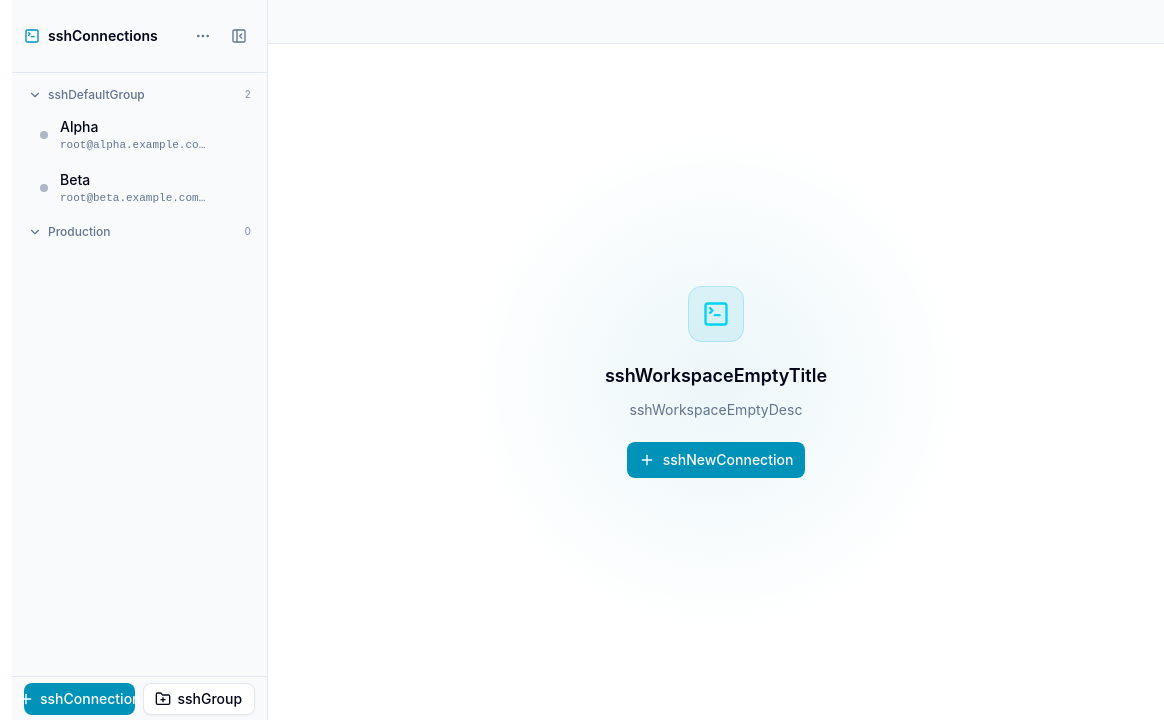
SSH workspace › moves a saved SSH connection to another group from its context menu
Right-click the button with aria-label "sshConnect Alpha" at (122, 135), box x1=20 y1=109 x2=223 y2=162
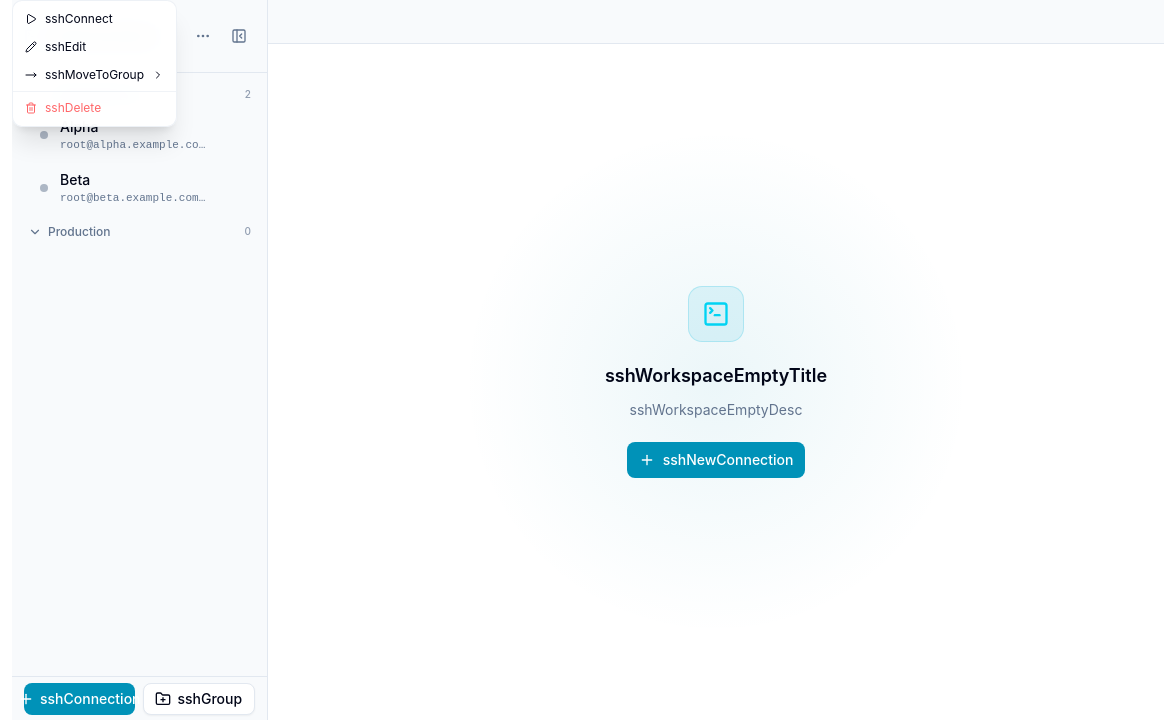
Click the button "sshMoveToGroup" at (94, 75), box x1=13 y1=61 x2=176 y2=89
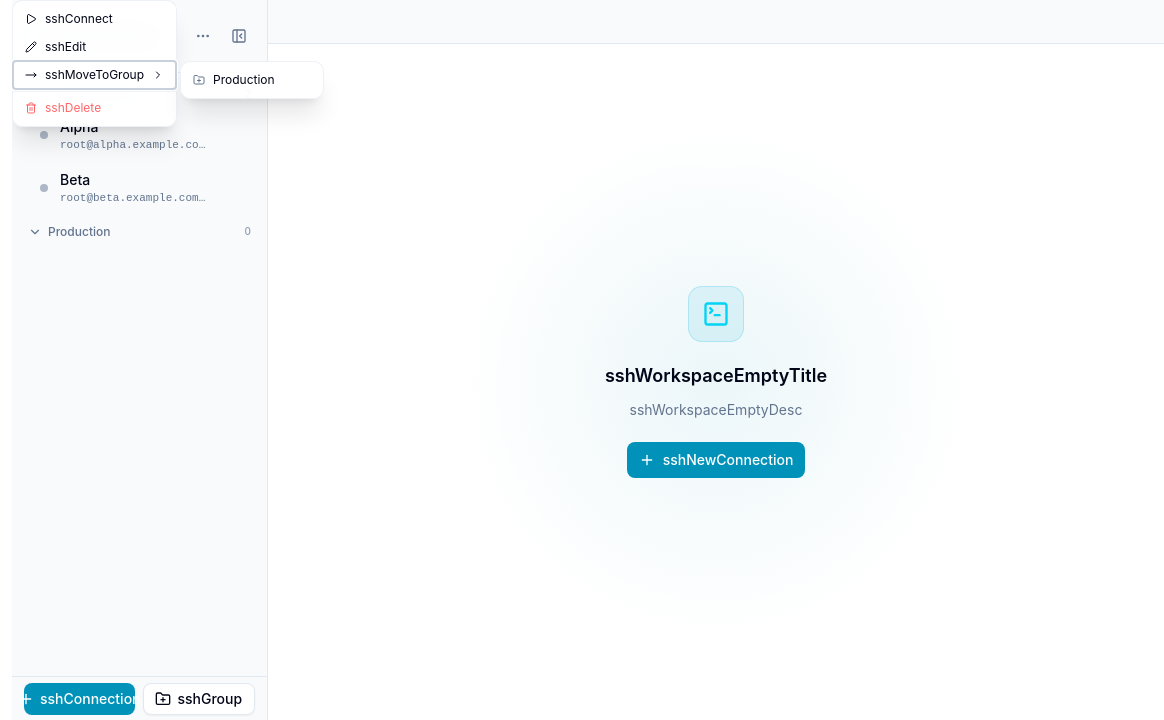
Click the button with aria-label "sshMoveConnectionTo Production" at (252, 80), box x1=181 y1=66 x2=323 y2=94
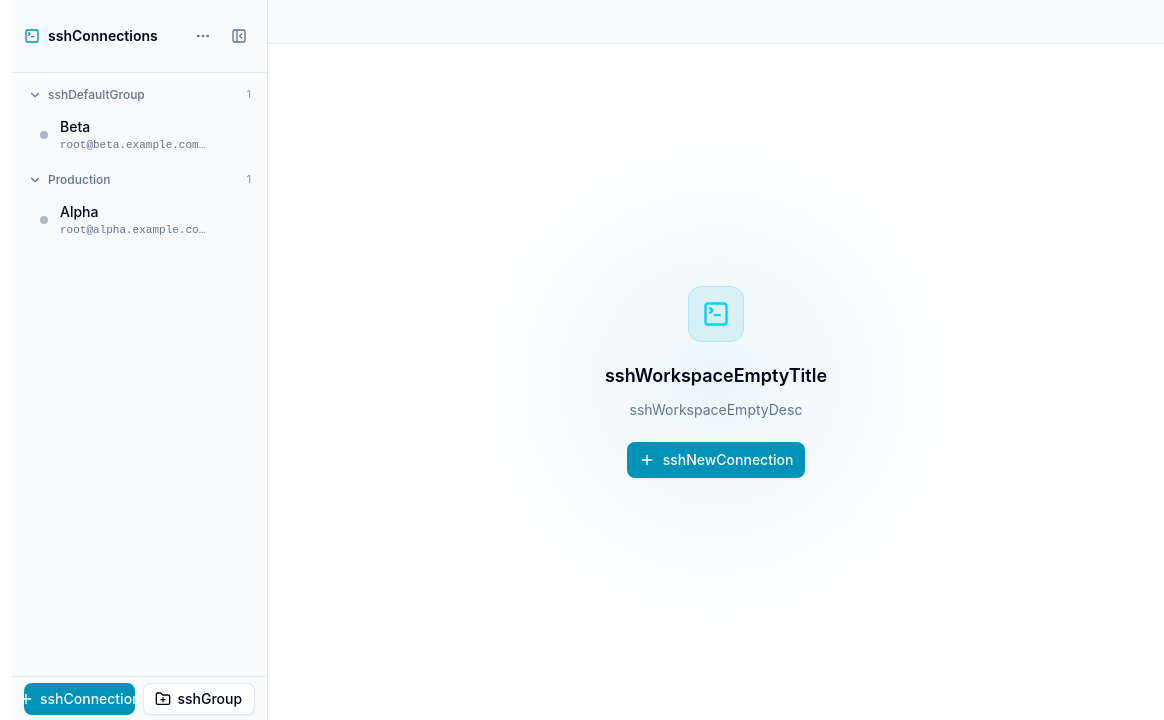
Now the button with aria-label "sshToggleGroup Production" shows "1", box x1=20 y1=166 x2=259 y2=194
